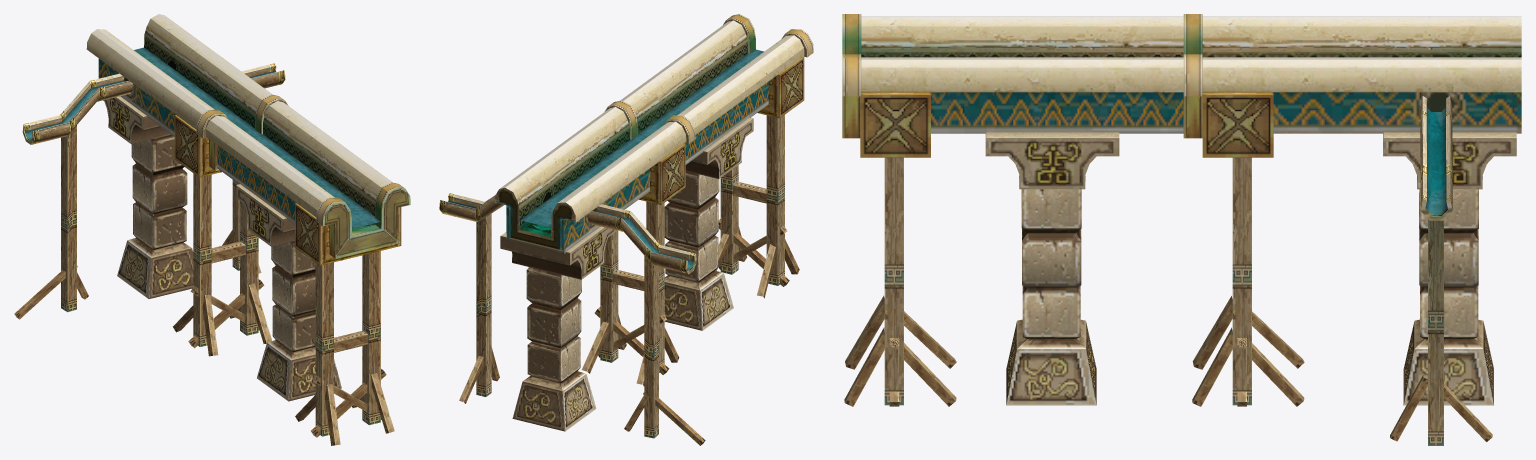
3 renders of one model, left to right at view 1: azimuth 30°, elevation 25°; view 2: azimuth 150°, elevation 25°; view 3: azimuth 270°, elevation 25°, orthographic. The views are drawn at different scales.
Parts seen in each view (by area): view 1: geom_node_0; view 2: geom_node_0; view 3: geom_node_0.
Part boxes in pixels (left/top/right/bottom): geom_node_0: left=14, top=14, right=410, bottom=445; geom_node_0: left=439, top=14, right=813, bottom=445; geom_node_0: left=842, top=14, right=1521, bottom=445.
Bounding box in the file's own units: 4.49 × 4.02 × 7.03.
Materials: 3 (3 with a texture image).
